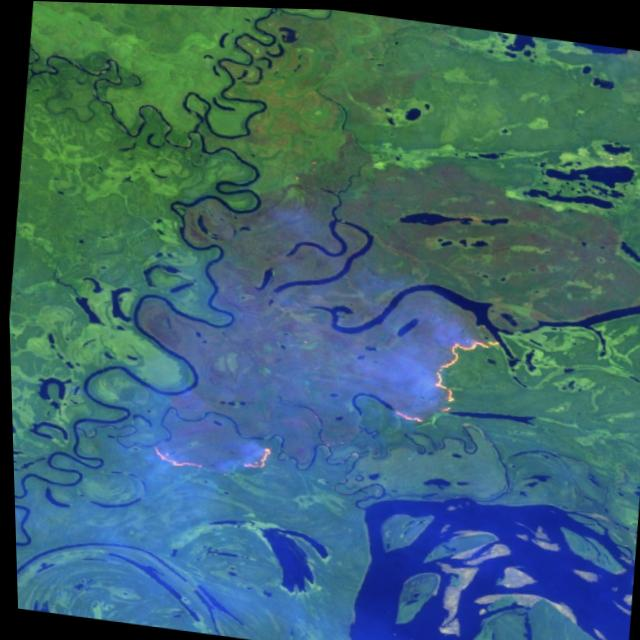fire: (373, 313, 521, 441), (137, 426, 281, 486)
